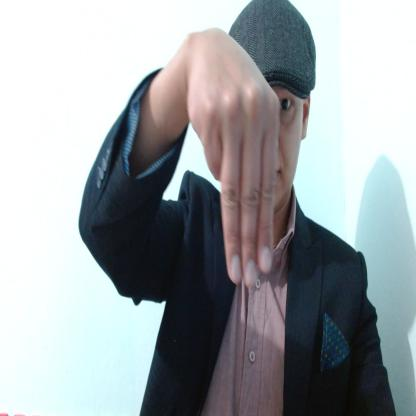M: (187, 27, 282, 289)
